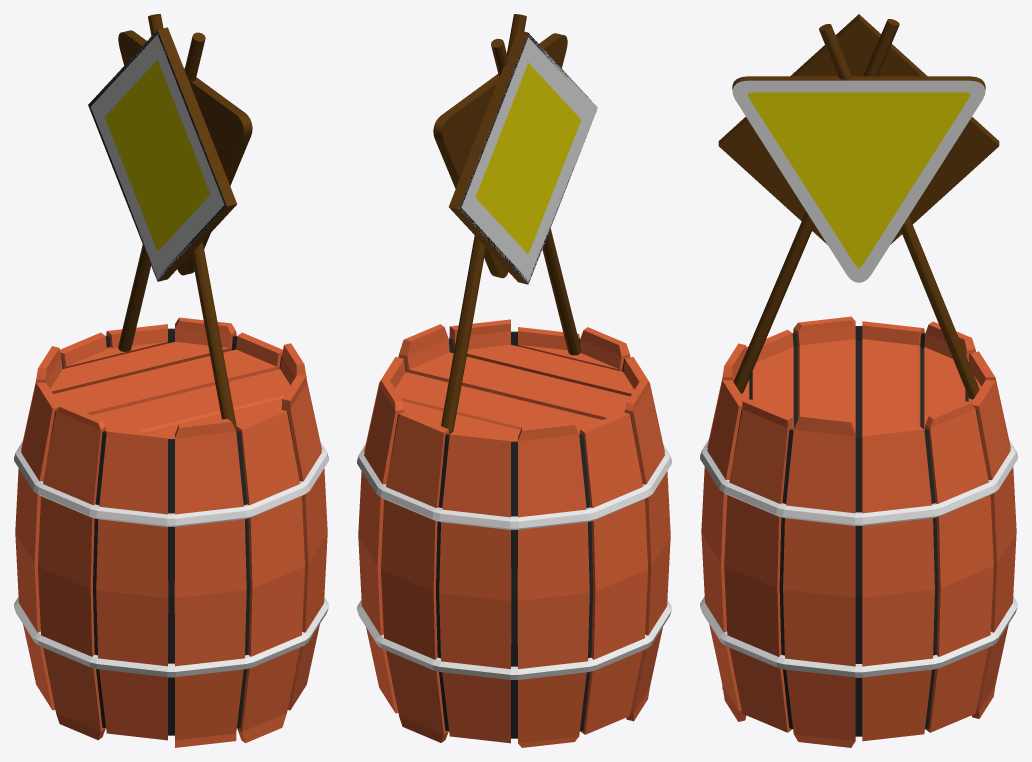
The model's file is DoubleSignRightOfWay.fbx.
3 renders of one model, left to right at view 1: azimuth 30°, elevation 25°; view 2: azimuth 150°, elevation 25°; view 3: azimuth 270°, elevation 25°, orthographic.
Parts seen in each view (by area): view 1: Barrel.002; view 2: Barrel.002; view 3: Barrel.002.
Boxes of the visible parts, x1,y1,x2,y2 form: Barrel.002: [14, 14, 328, 747]; Barrel.002: [357, 14, 671, 747]; Barrel.002: [700, 14, 1017, 747].
Bounding box in the file's own units: 56.71 × 133 × 56.72.
